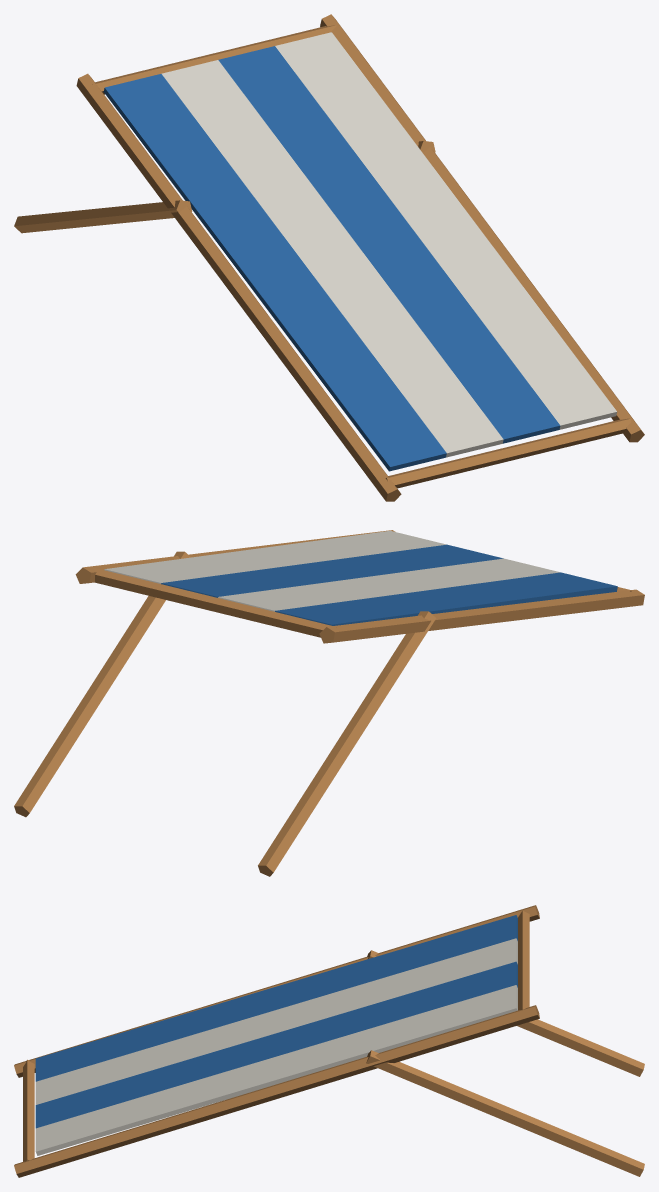
File: 140_transat.fbx
3 views of the same model, one above another, from view 1: azimuth 30°, elevation 25°; view 2: azimuth 150°, elevation 25°; view 3: azimuth 270°, elevation 25° (orthographic). The views are drawn at different scales.
Visible parts, largest first — view 1: Transat; view 2: Transat; view 3: Transat.
Boxes of the visible parts, bbox=[...] form: Transat: bbox=[14, 14, 644, 501]; Transat: bbox=[14, 530, 644, 876]; Transat: bbox=[14, 905, 644, 1177].
Size of the model in its own units: 0.56 by 0.42 by 1.4.
1 material, 1 textured.
